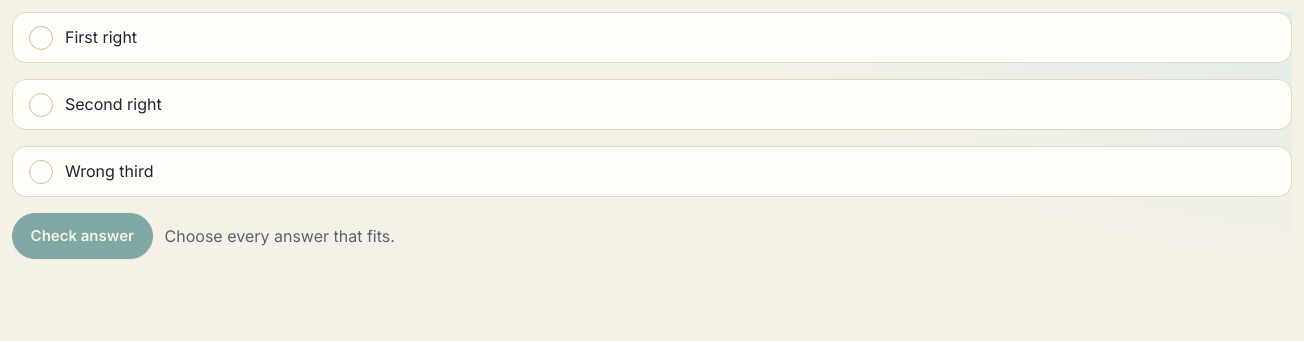
Test case: CheckExercise › says a second answer is still missing
This screenshot has width=1304, height=341.
Click the button "First right": (101, 37) [12,12,1292,63]
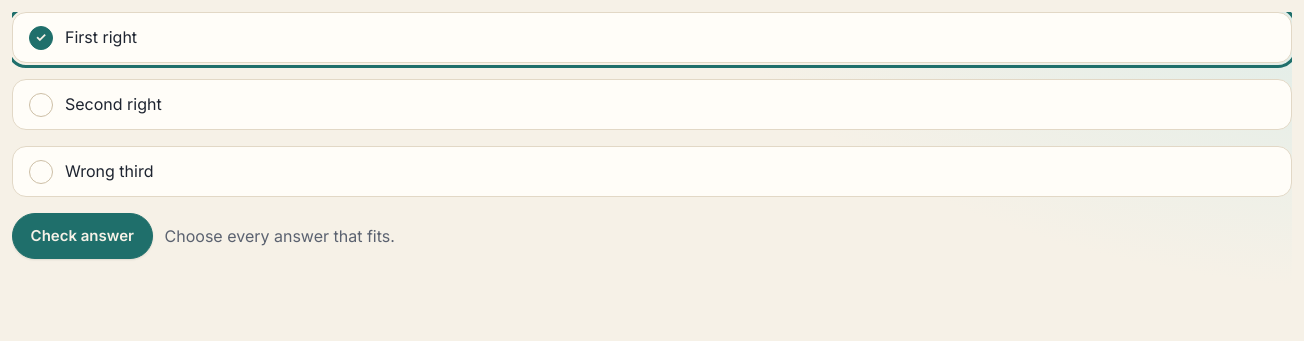
Click the button "Check answer": (82, 236) [12,213,153,259]
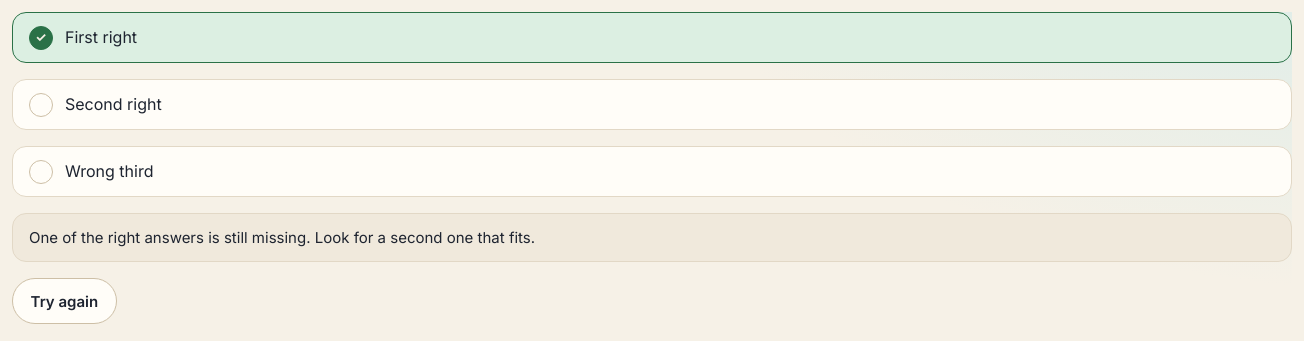
Expected: the text "still missing" is shown, [29,228,535,247]
